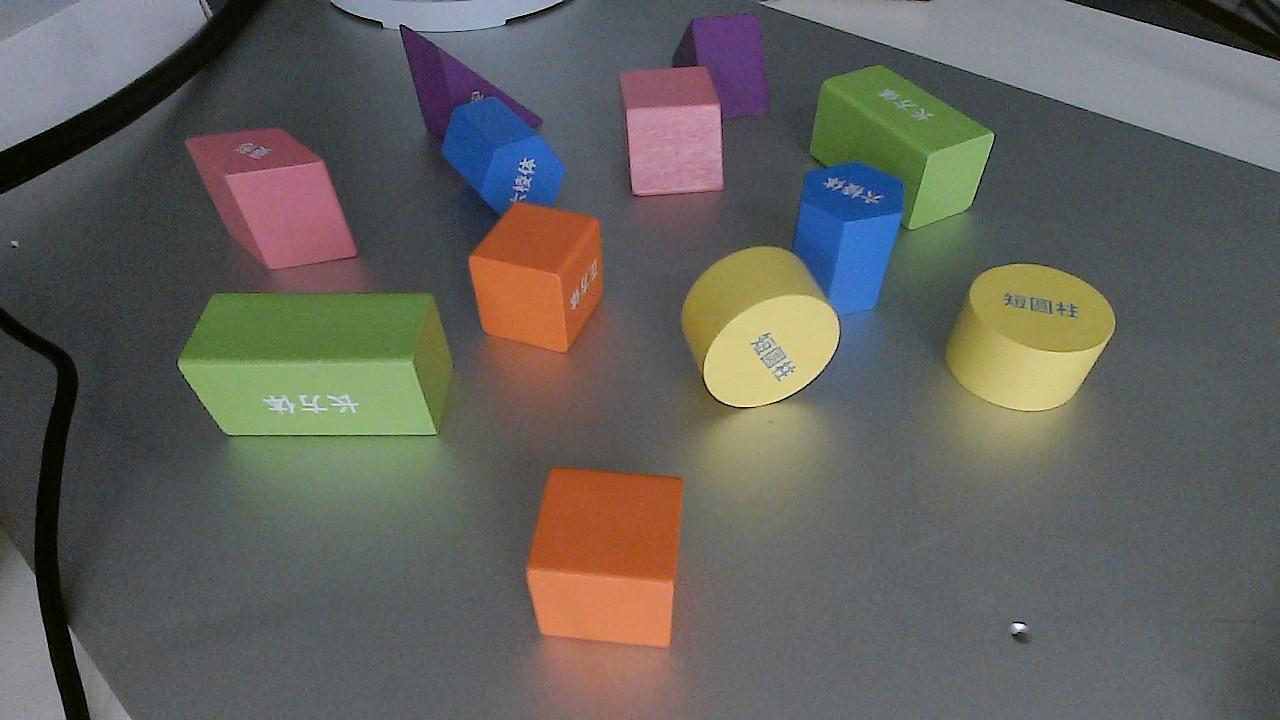circle: (679, 246, 842, 408), (942, 260, 1115, 411)
diamond: (181, 124, 357, 272), (613, 62, 726, 197)
hexagon: (792, 163, 905, 316), (441, 96, 564, 218)
rectangle: (179, 293, 455, 439), (808, 65, 989, 223)
square: (526, 465, 685, 653), (465, 201, 604, 357)
triangle: (397, 22, 543, 137), (671, 10, 769, 118)
